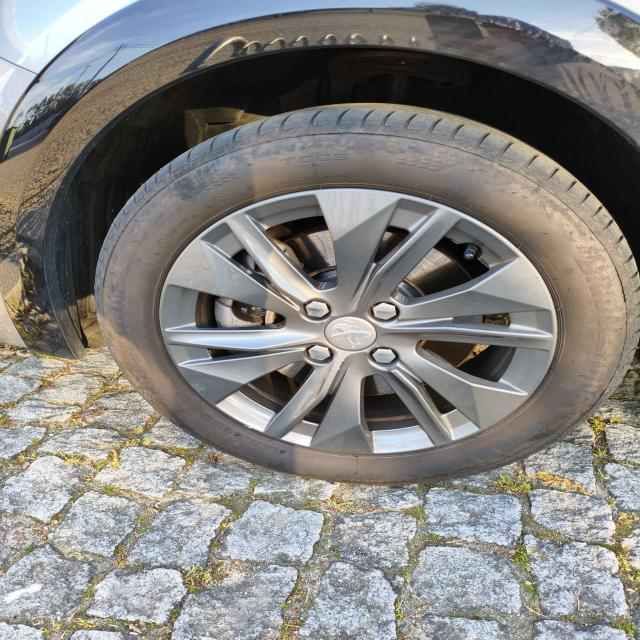jante: (158, 185, 562, 457)
parafuso: (367, 302, 399, 321), (302, 301, 330, 320), (305, 343, 332, 362), (371, 348, 398, 366)
roda: (94, 102, 640, 484)
